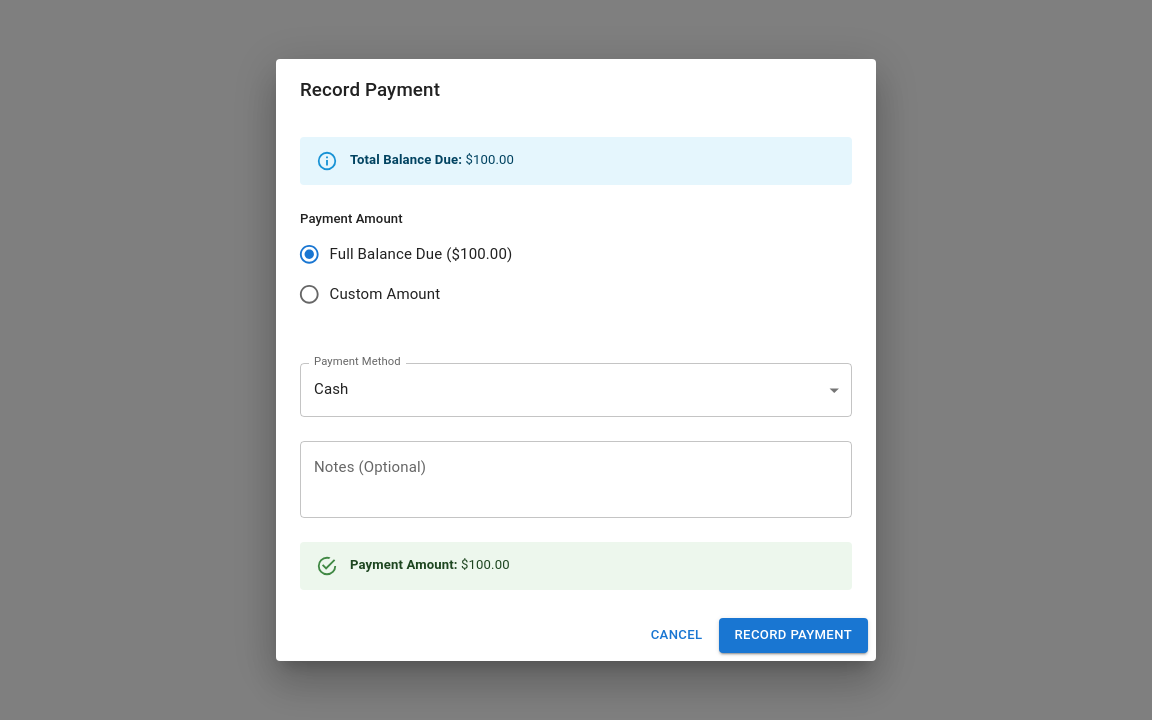
Test: RecordPaymentDialog › Payment Type Selection › should show custom amount input when custom is selected
What coordinates should you click on to do the following:
click the radio button labelled "Custom Amount"
I would click on:
 (369, 295)
Its box is 298,283 -> 440,306.
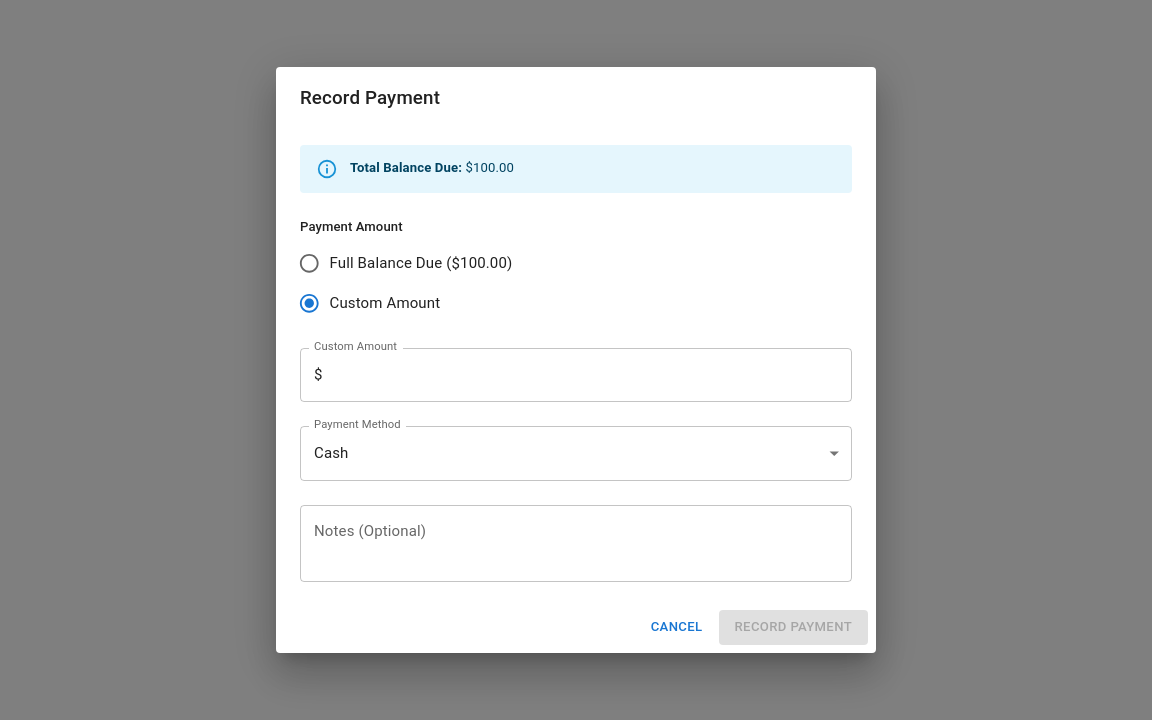
Check: the number field labelled "Custom Amount" is shown, box 323,348 -> 852,402
